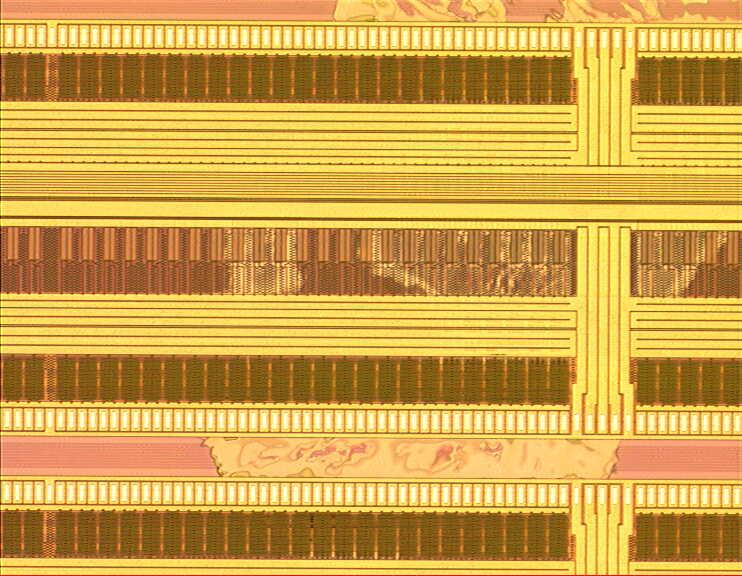COATING BAD: (197, 1, 742, 483)
